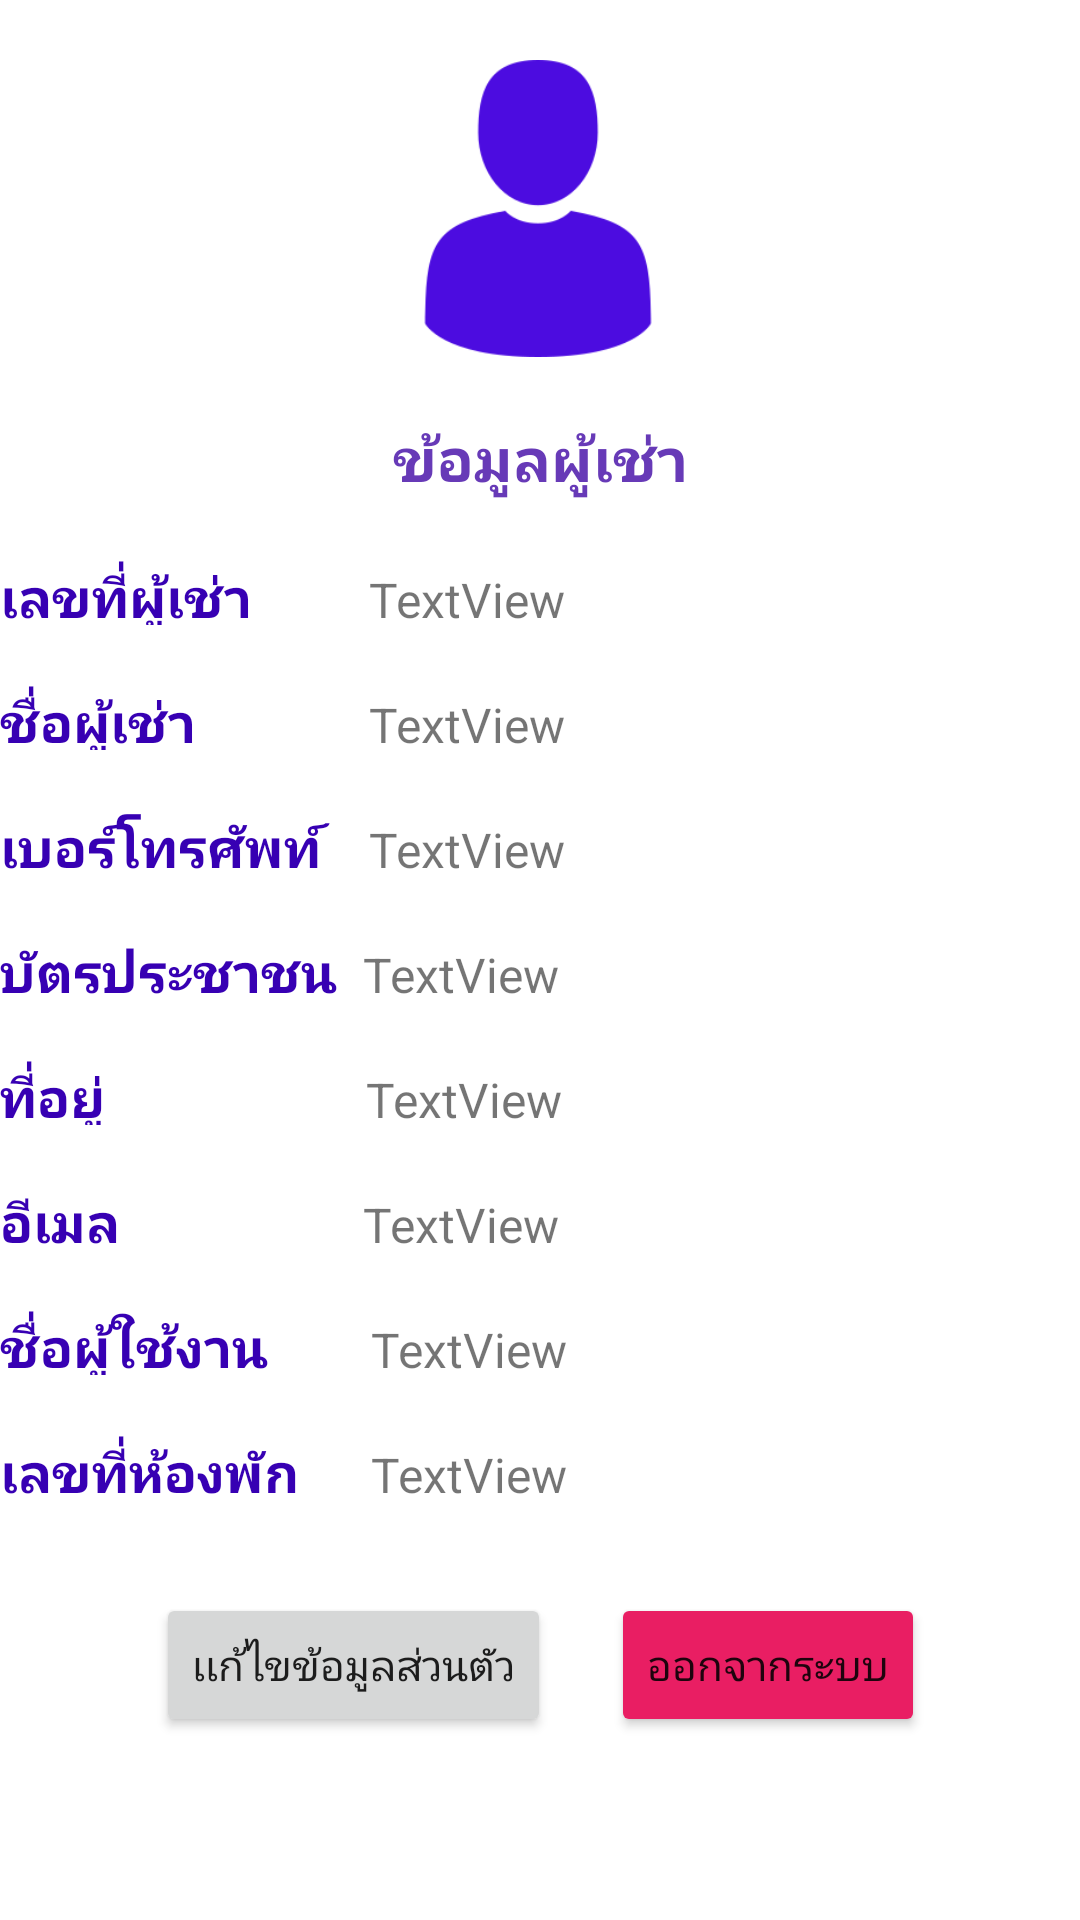

Icons on this 1080x1920 Android screen, each with the point to tap as (x=x, y=y):
man user: (x=538, y=208)
